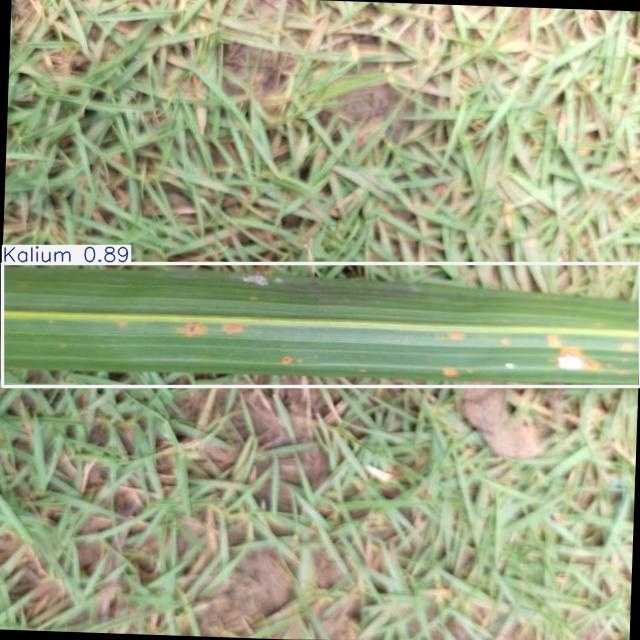Kalium: (3, 263, 640, 386)
